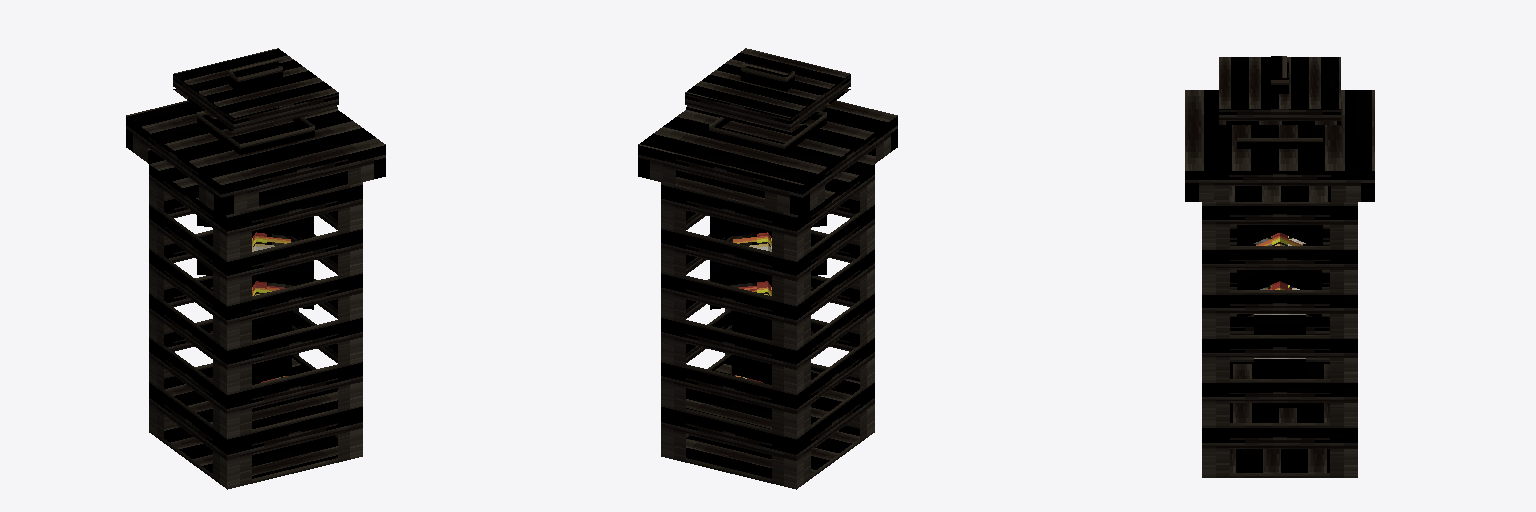
3 renders of one model, left to right at view 1: azimuth 30°, elevation 25°; view 2: azimuth 150°, elevation 25°; view 3: azimuth 270°, elevation 25°, orthographic.
Visible parts, largest first — view 1: cube; view 2: cube; view 3: cube.
Boxes of the visible parts, box(x1,y1,x2,y2) form: cube: box(126, 48, 385, 489); cube: box(638, 48, 897, 489); cube: box(1185, 56, 1374, 477).
Size of the model in its own units: 0.3438 by 0.75 by 0.3438.
1 materials, 1 textured.